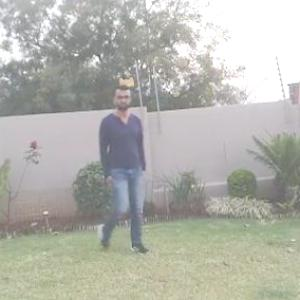follow: (92, 84, 149, 250)
